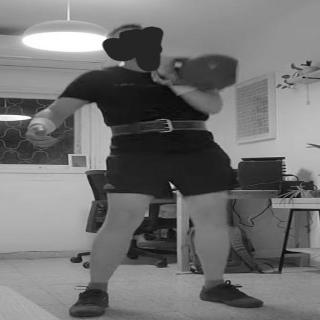kettlebell: (146, 52, 243, 94)
